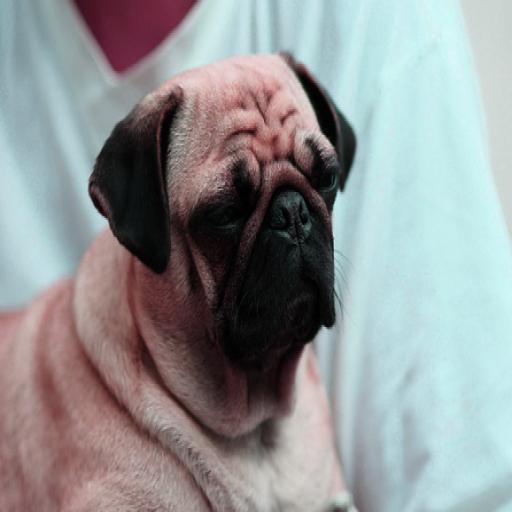dog_face: (84, 50, 359, 372)
